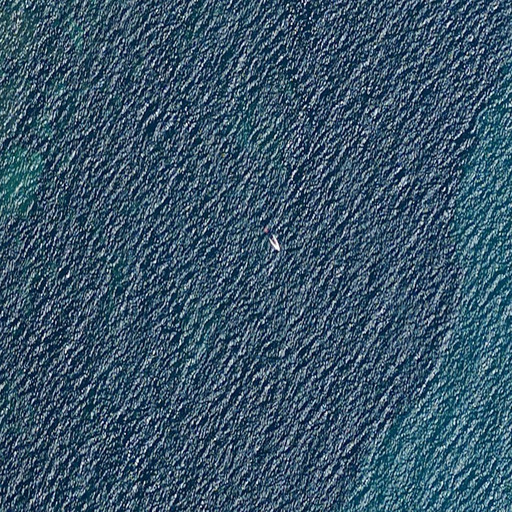ship: (269, 235, 283, 253)
